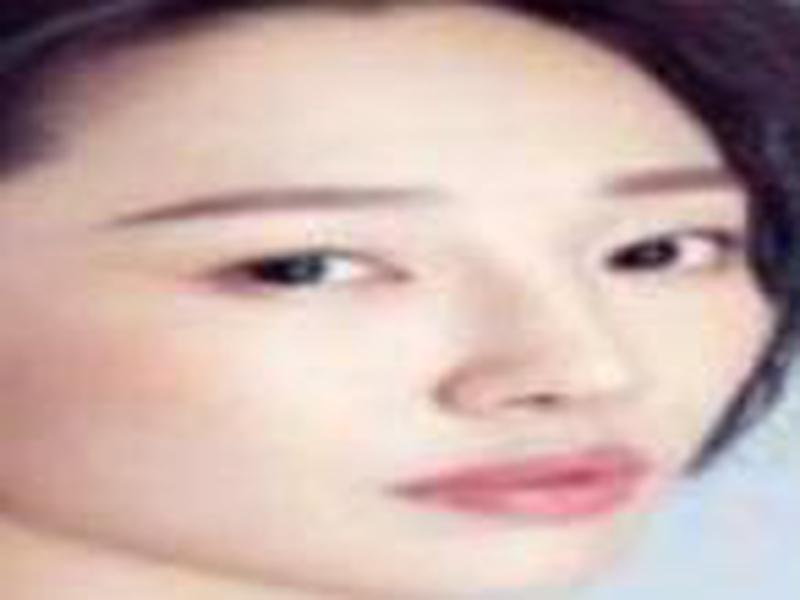without_mask: (12, 19, 776, 600)
